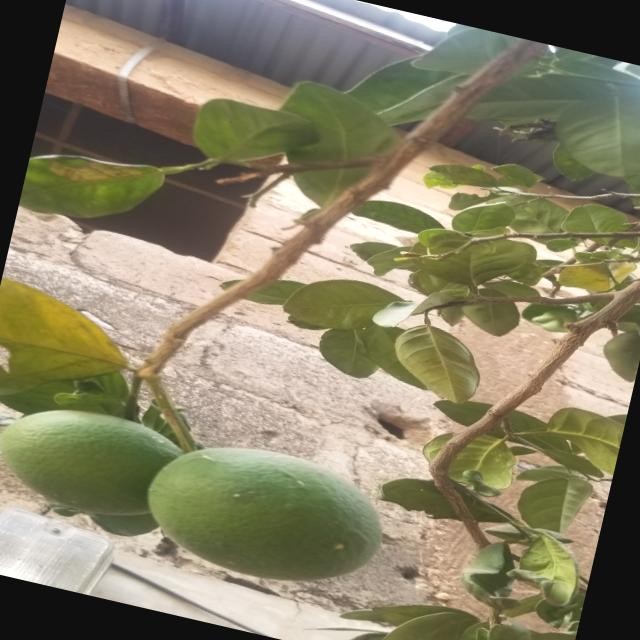Unripe: (140, 426, 407, 615), (0, 383, 185, 550)
